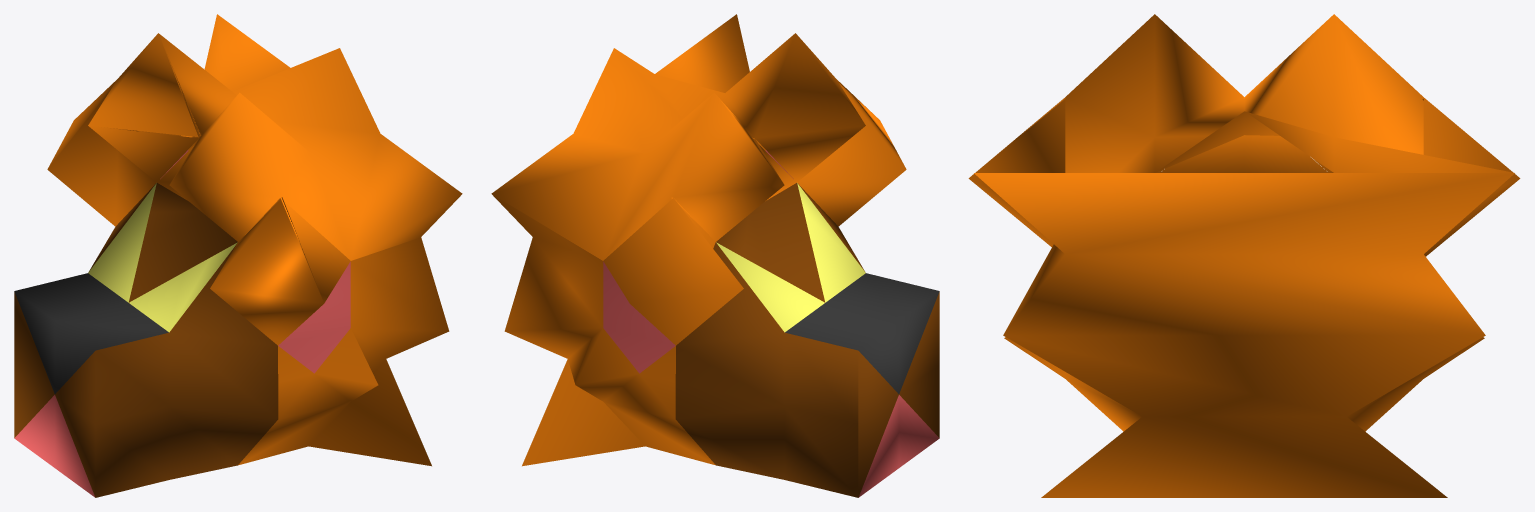
The model's file is blockLion1.fbx.
3 renders of one model, left to right at view 1: azimuth 30°, elevation 25°; view 2: azimuth 150°, elevation 25°; view 3: azimuth 270°, elevation 25°, orthographic. The views are drawn at different scales.
Visible parts, largest first — view 1: Cube; view 2: Cube; view 3: Cube.
Boxes of the visible parts, <box> form: Cube: <box>14,14,462,497</box>; Cube: <box>491,14,939,497</box>; Cube: <box>968,14,1520,497</box>.
Size of the model in its own units: 1.01 by 1.26 by 1.54.
